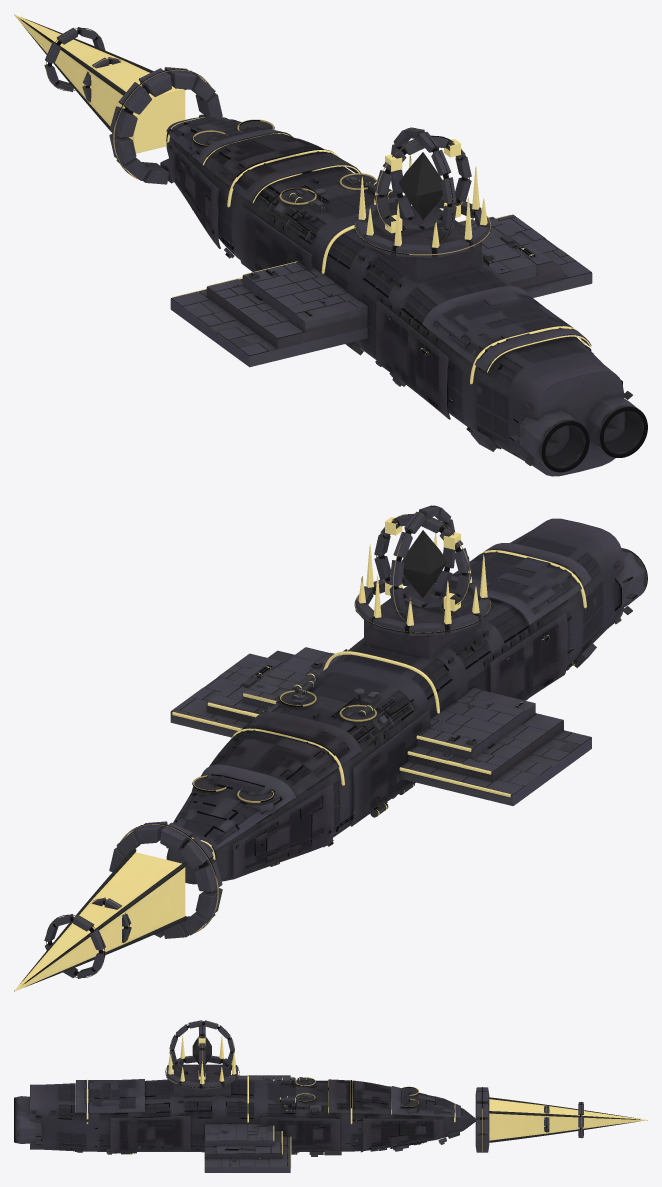
The model's file is divine_spear_hero.glb.
3 renders of one model, top to bottom at view 1: azimuth 30°, elevation 25°; view 2: azimuth 150°, elevation 25°; view 3: azimuth 270°, elevation 25°, orthographic. The views are drawn at different scales.
Parts seen in each view (by area): view 1: HullBaked; view 2: HullBaked; view 3: HullBaked.
Boxes of the visible parts, x1,y1,x2,y2 form: HullBaked: [14, 14, 647, 476]; HullBaked: [14, 505, 647, 991]; HullBaked: [14, 1020, 647, 1172].
Size of the model in its own units: 52.64 by 34.8 by 155.
Materials: 1 (1 with a texture image).
